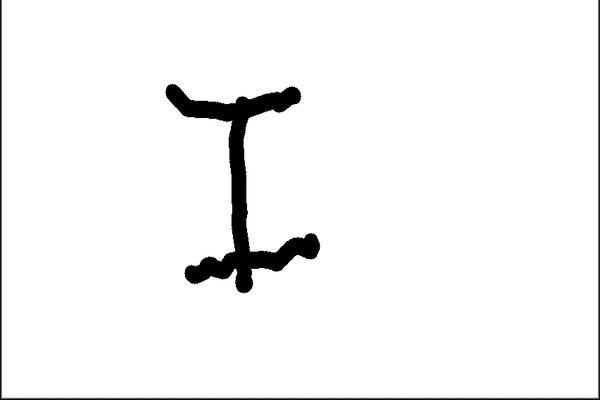i: (154, 69, 327, 293)
